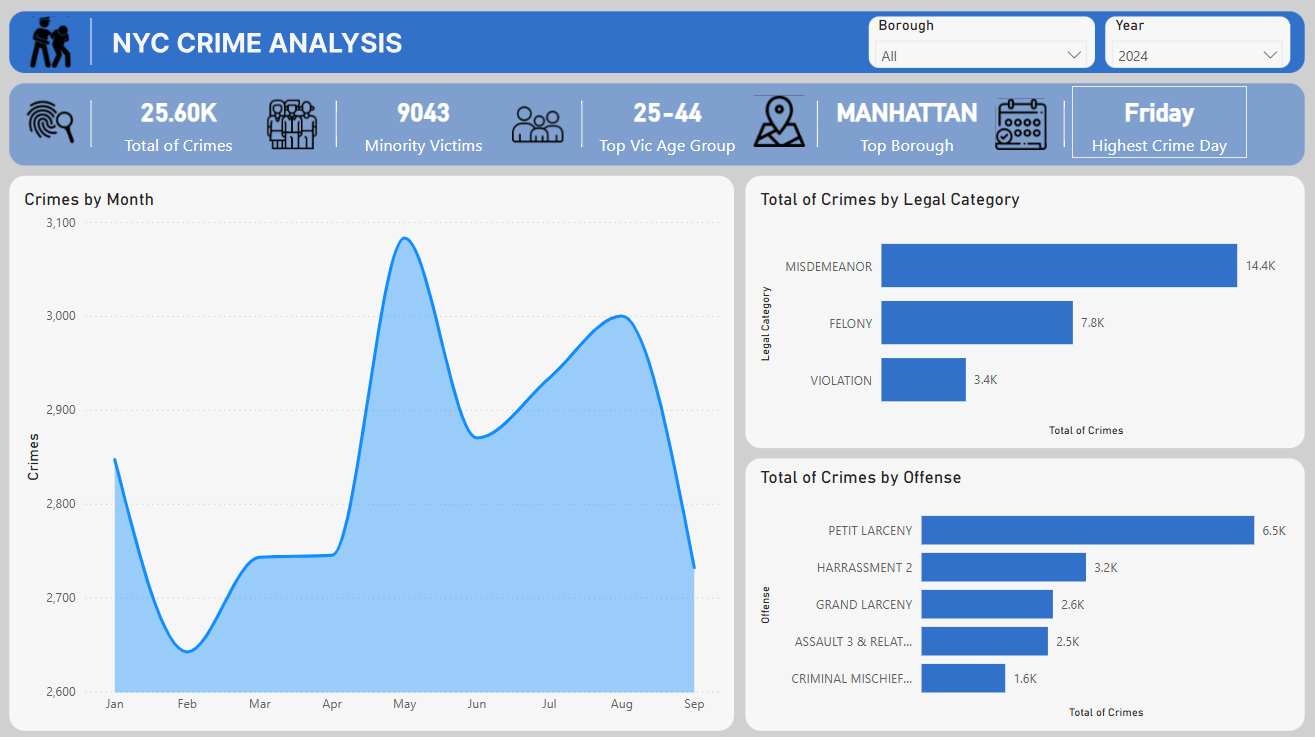

Layout of this report page (visuals, bound fields, positions):
{"tool":"powerbi","page":{"name":"NYPD CRIME ANALYSIS - Dashboard","canvas":[1280,720],"ordinal":0},"visuals":[{"type":"shape","title":"Bg","box":[0,0,65,720.8],"z":0},{"type":"textbox","title":"Title","box":[301,14.8,354.6,59.9],"z":0,"group":"g5"},{"type":"image","title":"Icon","box":[75.3,0.1,226.2,90],"z":1000,"group":"g5"},{"type":"image","box":[0,416.7,65.3,55.6],"z":1000,"group":"g2"},{"type":"image","box":[0,301.4,65.3,54.2],"z":2000,"group":"g1"},{"type":"slicer","title":"Borough Filter","fields":{"Values":["view.borough_name"]},"box":[676.4,6.9,290.3,83.3],"z":3000,"group":"g4"},{"type":"slicer","title":"Year Filter","fields":{"Values":["view.year"]},"box":[975,6.9,290.3,83.3],"z":4000,"group":"g4"},{"type":"card","fields":{"Values":["Count(view.complaint_id)"]},"box":[78.1,97.9,290,110],"z":5000,"group":"g3"},{"type":"card","fields":{"Values":["view.3 # TopBoroughName"]},"box":[377.2,97.9,290,110],"z":6000,"group":"g3"},{"type":"card","fields":{"Values":["view.# TopVictimAgeGroup"]},"box":[676.2,97.8,290,109.7],"z":7000,"group":"g3"},{"type":"card","fields":{"Values":["view.# TopDayOfWeek"]},"box":[975.3,99.2,290,109.7],"z":8000,"group":"g3"},{"type":"clusteredBarChart","fields":{"Category":["view.legal_category"],"Y":["CountNonNull(view.complaint_id)"]},"box":[77.8,220.8,590.3,237.5],"z":9000},{"type":"columnChart","fields":{"Y":["CountNonNull(view.complaint_id)"],"Category":["view.month"]},"box":[77.8,470.8,590.3,237.5],"z":10000},{"type":"barChart","fields":{"Category":["view.offense_description"],"Y":["CountNonNull(view.complaint_id)"]},"box":[676.4,219.4,588.9,487.5],"z":11000},{"type":"image","title":"Icon - Home","box":[0,186.1,65.3,55.6],"z":12000},{"type":"group","id":"g1","title":"Crime Details Button","box":[0,301.4,65.7,54.3],"z":12812},{"type":"actionButton","box":[0,301.4,65.7,54.3],"z":13000,"group":"g1"},{"type":"group","id":"g2","title":"Location Button","box":[0,416.7,65.7,56.2],"z":13625},{"type":"actionButton","box":[0,417.2,65.7,55.7],"z":14000,"group":"g2"},{"type":"group","id":"g3","title":"Cards","box":[78.1,97.8,1187.2,111.1],"z":14250},{"type":"group","id":"g4","title":"Filters","box":[676.4,6.9,588.9,83.3],"z":14500},{"type":"group","id":"g5","title":"Logo","box":[75.3,0.1,580.3,90],"z":15000}]}

Visuals, with their boxes in screenshot pixels (x1, y1, x2, y2), scaled from the page's 1280x720 canvas onto the 1315x737 screenshot:
"Bg" shape: <bbox>0, 0, 67, 736</bbox>
"Title" textbox: <bbox>309, 15, 674, 76</bbox>
"Icon" image: <bbox>77, 0, 310, 92</bbox>
image: <bbox>0, 427, 67, 483</bbox>
image: <bbox>0, 309, 67, 364</bbox>
"Borough Filter" slicer: <bbox>695, 7, 993, 92</bbox>
"Year Filter" slicer: <bbox>1002, 7, 1300, 92</bbox>
card - Count(view.complaint_id): <bbox>80, 100, 378, 213</bbox>
card - view.3 # TopBoroughName: <bbox>388, 100, 685, 213</bbox>
card - view.# TopVictimAgeGroup: <bbox>695, 100, 993, 212</bbox>
card - view.# TopDayOfWeek: <bbox>1002, 102, 1300, 214</bbox>
clusteredBarChart - view.legal_category x CountNonNull(view.complaint_id): <bbox>80, 226, 686, 469</bbox>
columnChart - CountNonNull(view.complaint_id) x view.month: <bbox>80, 482, 686, 725</bbox>
barChart - view.offense_description x CountNonNull(view.complaint_id): <bbox>695, 225, 1300, 724</bbox>
"Icon - Home" image: <bbox>0, 190, 67, 247</bbox>
"Crime Details Button" group: <bbox>0, 309, 67, 364</bbox>
actionButton: <bbox>0, 309, 67, 364</bbox>
"Location Button" group: <bbox>0, 427, 67, 484</bbox>
actionButton: <bbox>0, 427, 67, 484</bbox>
"Cards" group: <bbox>80, 100, 1300, 214</bbox>
"Filters" group: <bbox>695, 7, 1300, 92</bbox>
"Logo" group: <bbox>77, 0, 674, 92</bbox>
